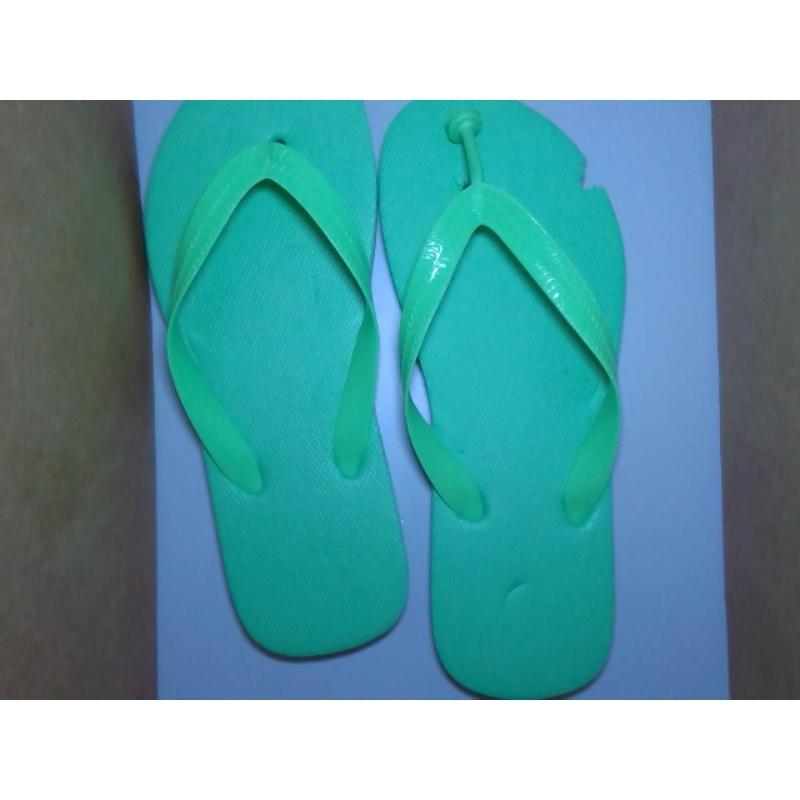chipped: (564, 143, 622, 212)
detached: (433, 106, 496, 163)
